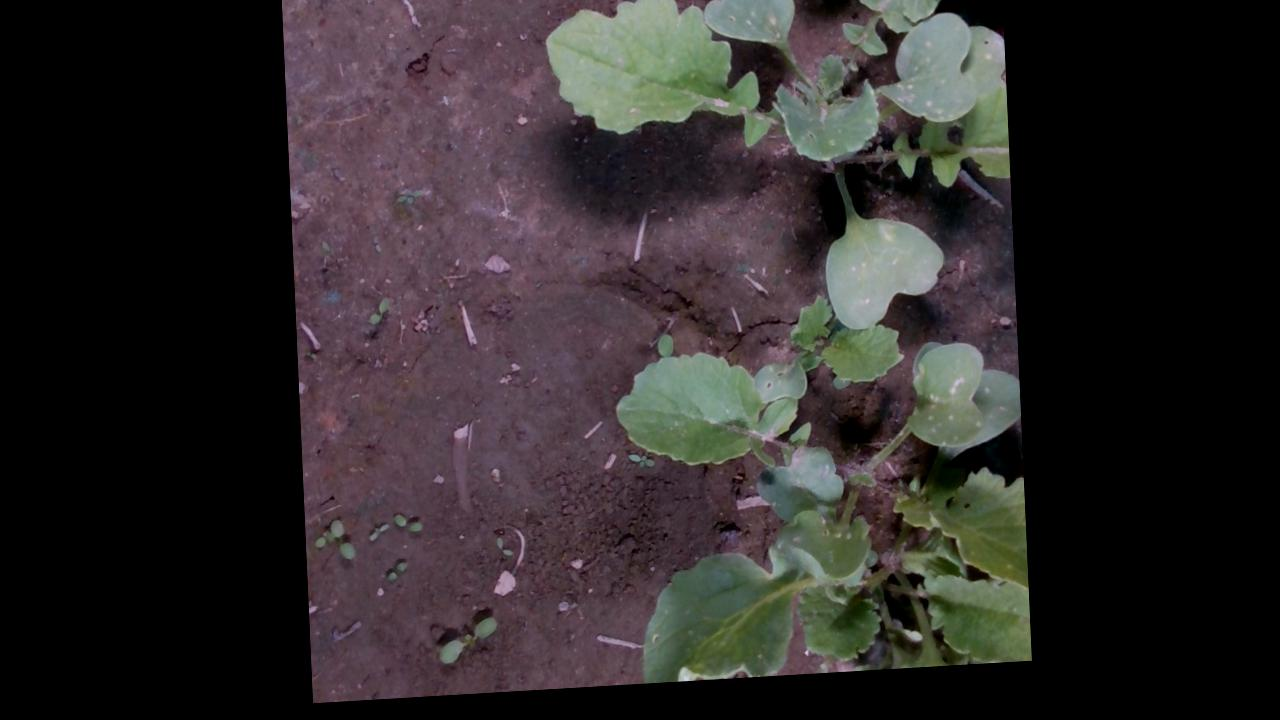weed: (430, 622, 493, 669), (363, 299, 387, 329), (389, 515, 419, 537), (393, 190, 425, 209), (362, 525, 388, 544), (380, 564, 403, 585), (491, 540, 510, 561)
